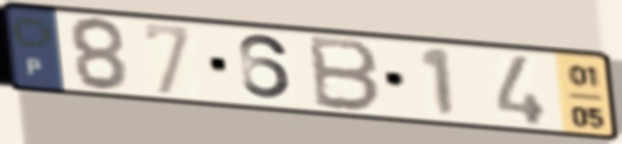1: (416, 45, 456, 120)
4: (492, 52, 551, 129)
6: (235, 32, 296, 105)
7: (140, 20, 197, 98)
8: (66, 14, 133, 94)
B: (308, 32, 384, 115)
